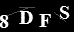8: (1, 14, 9, 28)
D: (18, 10, 33, 24)
F: (38, 13, 52, 27)
S: (59, 5, 70, 20)
